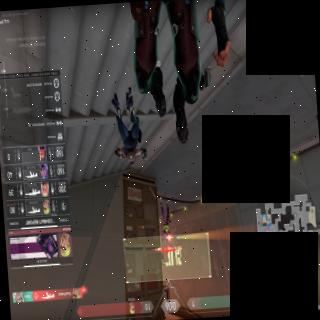ENEMY-BODY: (159, 196, 173, 246)
ENEMY-HEAD: (166, 240, 169, 246)
